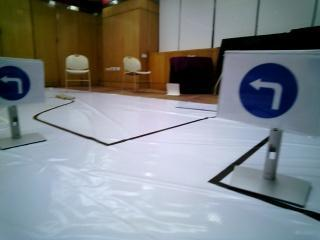left: (220, 47, 318, 134), (0, 57, 40, 104)
